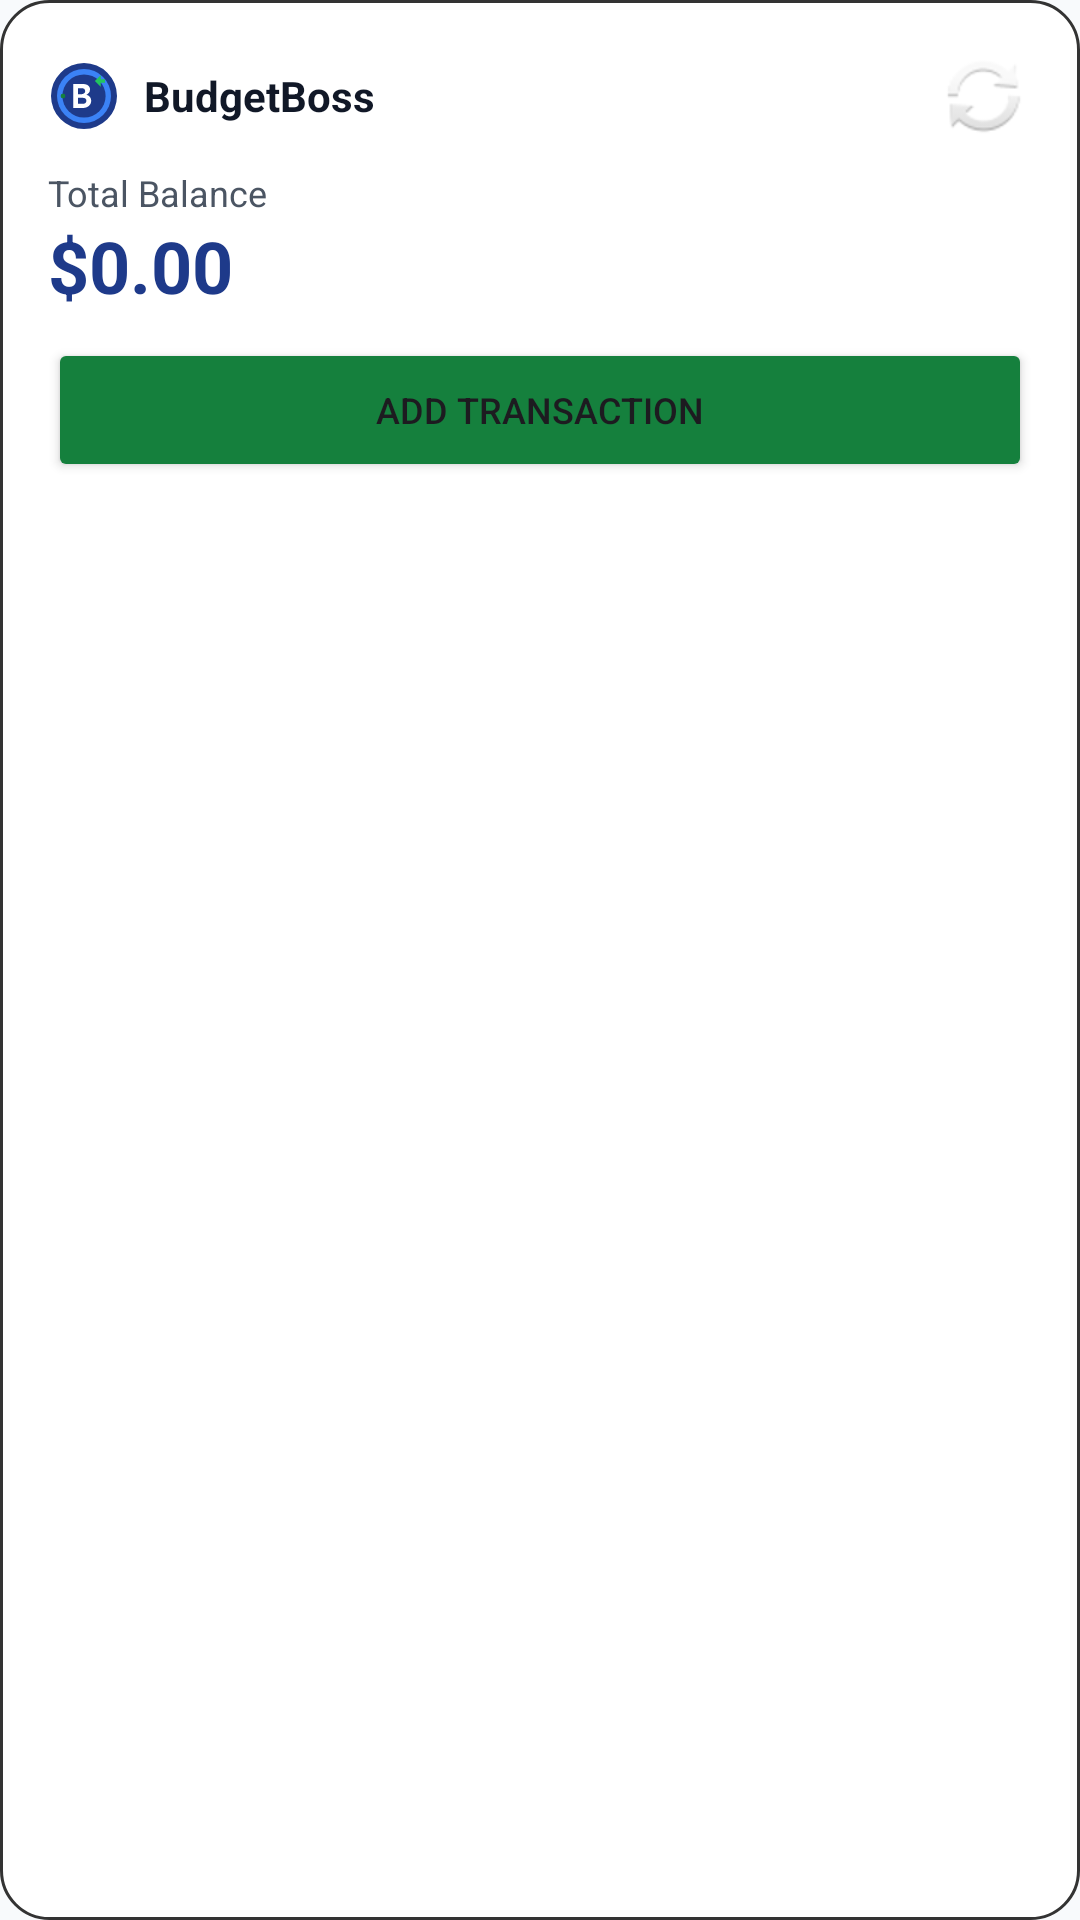

Screen size 1080px×1920px. Icon name, then its center in pixels as point (x, y):
Refresh: point (983, 100)
